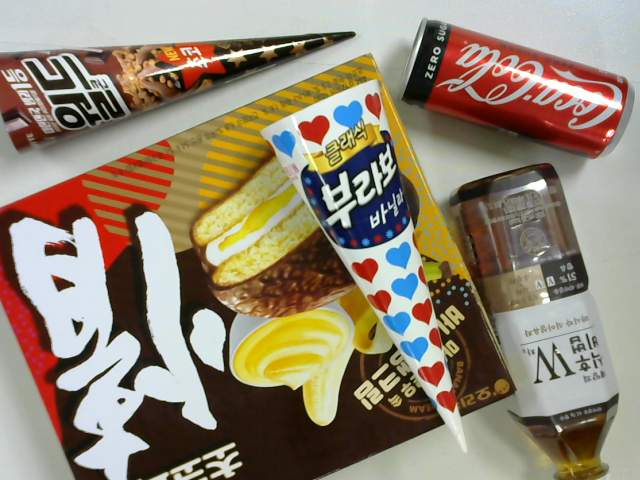Bravo_Cone_(Banila)_CVS: (263, 77, 485, 456), (1, 24, 357, 152)
Choco_Pie_Banana: (1, 53, 516, 479)
Coca_Cola_Zero_Can_250ml: (399, 19, 637, 157)
Post-meal_recipe_W_tea_500ml: (452, 162, 621, 480)
